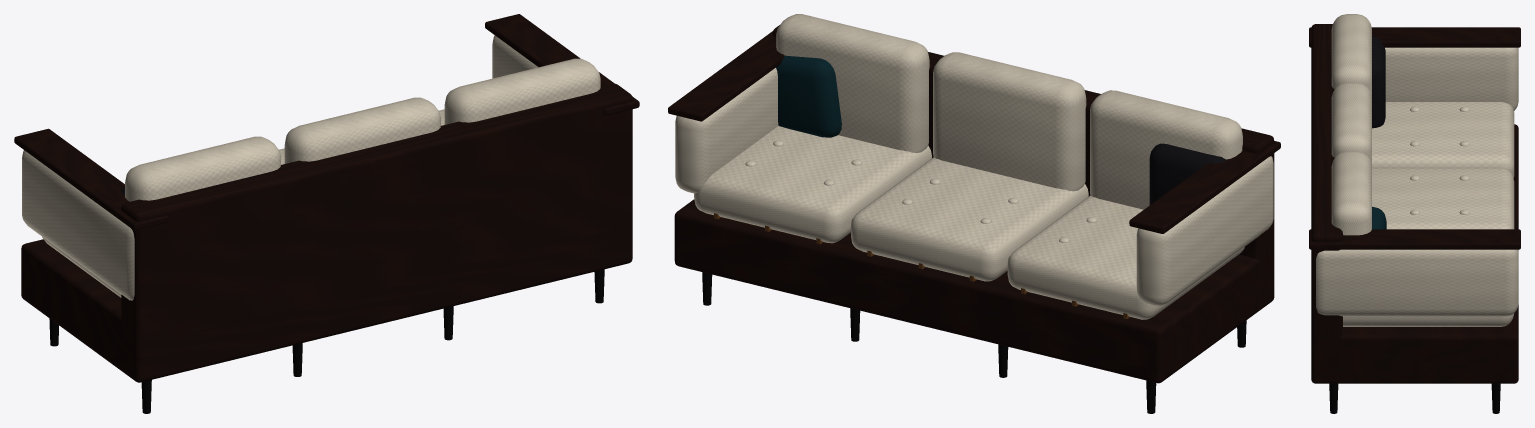
Rendered from razoredge-modern-sofa.glb.
The picture shows the model from 3 angles, left to right: view 1: azimuth 30°, elevation 25°; view 2: azimuth 150°, elevation 25°; view 3: azimuth 270°, elevation 25°; orthographic projection. The views are drawn at different scales.
Visible parts, largest first — view 1: back_frame, base, armrest, back_cushion_1, back_cushion_2, back_cushion_0, armrest_cap, armrest_cap.001, armrest.001; view 2: base, seat_1, back_cushion_1, seat_2, back_cushion_2, seat_0, back_cushion_0, armrest, armrest.001, pillow_b, armrest_cap, armrest_cap.001 (+2 smaller); view 3: armrest.001, base, seat_0, seat_1, armrest, back_frame, armrest_cap.001, back_cushion_2, armrest_cap, back_cushion_1, back_cushion_0, seat_2 (+4 smaller).
Boxes of the visible parts, x1=… form: back_frame: x1=121, y1=83, x2=632, y2=344; base: x1=21, y1=224, x2=632, y2=382; armrest: x1=22, y1=150, x2=134, y2=300; back_cushion_1: x1=284, y1=97, x2=440, y2=163; back_cushion_2: x1=444, y1=58, x2=600, y2=124; back_cushion_0: x1=125, y1=136, x2=280, y2=201; armrest_cap: x1=14, y1=128, x2=168, y2=230; armrest_cap.001: x1=485, y1=14, x2=639, y2=115; armrest.001: x1=492, y1=35, x2=537, y2=78; base: x1=674, y1=199, x2=1274, y2=383; seat_1: x1=851, y1=157, x2=1088, y2=281; back_cushion_1: x1=933, y1=52, x2=1086, y2=191; seat_2: x1=694, y1=126, x2=931, y2=243; back_cushion_2: x1=776, y1=14, x2=929, y2=152; seat_0: x1=1007, y1=196, x2=1244, y2=319; back_cushion_0: x1=1090, y1=90, x2=1242, y2=209; armrest: x1=1136, y1=156, x2=1273, y2=305; armrest.001: x1=675, y1=68, x2=778, y2=193; pillow_b: x1=776, y1=55, x2=841, y2=137; armrest_cap: x1=1129, y1=141, x2=1280, y2=233; armrest_cap.001: x1=668, y1=31, x2=784, y2=121; armrest.001: x1=1316, y1=249, x2=1518, y2=316; base: x1=1311, y1=124, x2=1518, y2=383; seat_0: x1=1372, y1=102, x2=1514, y2=177; seat_1: x1=1372, y1=167, x2=1514, y2=229; armrest: x1=1385, y1=47, x2=1518, y2=110; back_frame: x1=1311, y1=24, x2=1342, y2=350; armrest_cap.001: x1=1309, y1=229, x2=1520, y2=249; back_cushion_2: x1=1331, y1=151, x2=1371, y2=235; armrest_cap: x1=1309, y1=27, x2=1520, y2=47; back_cushion_1: x1=1331, y1=82, x2=1371, y2=165; back_cushion_0: x1=1331, y1=14, x2=1371, y2=96; seat_2: x1=1343, y1=313, x2=1513, y2=326.
Size of the model in its own units: 2.28 by 1.01 by 0.94.
6 materials, 5 textured.
